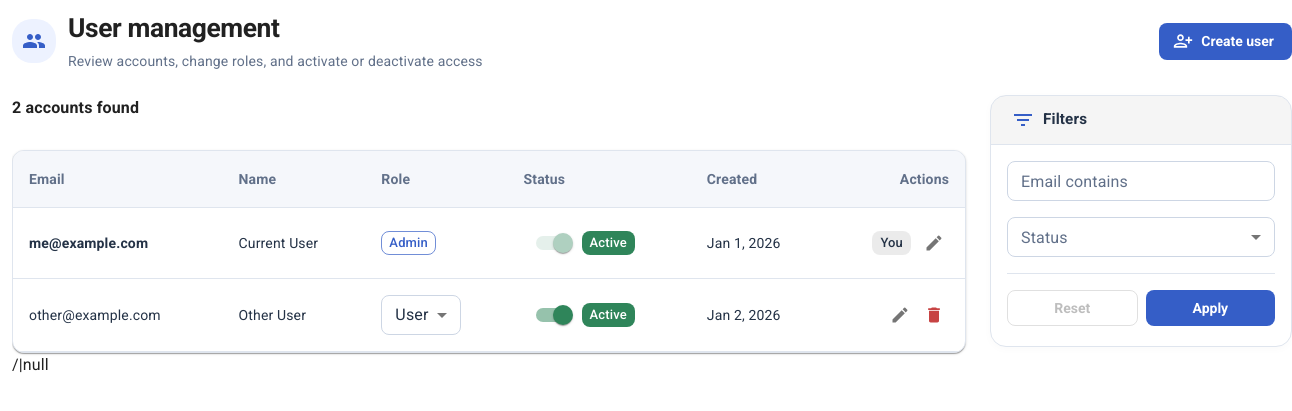
Scenario: users dashboard › filters accounts by email and active status
Check: the text "me@example.com" is shown, box [29,235,148,251]
In the field labelled "Email contains": (1141, 181) [1007,161,1275,201], type "other"
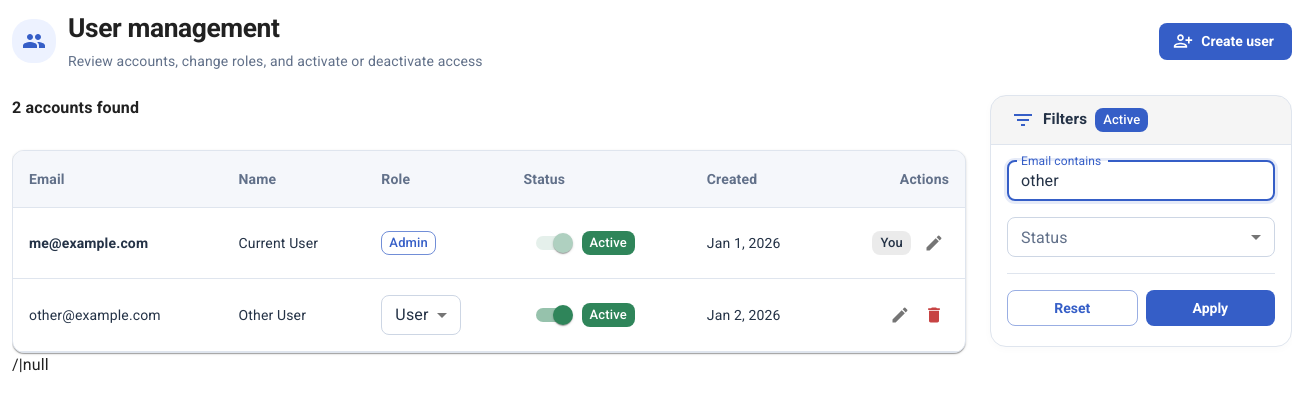
Click the 1st dropdown: (1141, 237) [1007,217,1275,257]
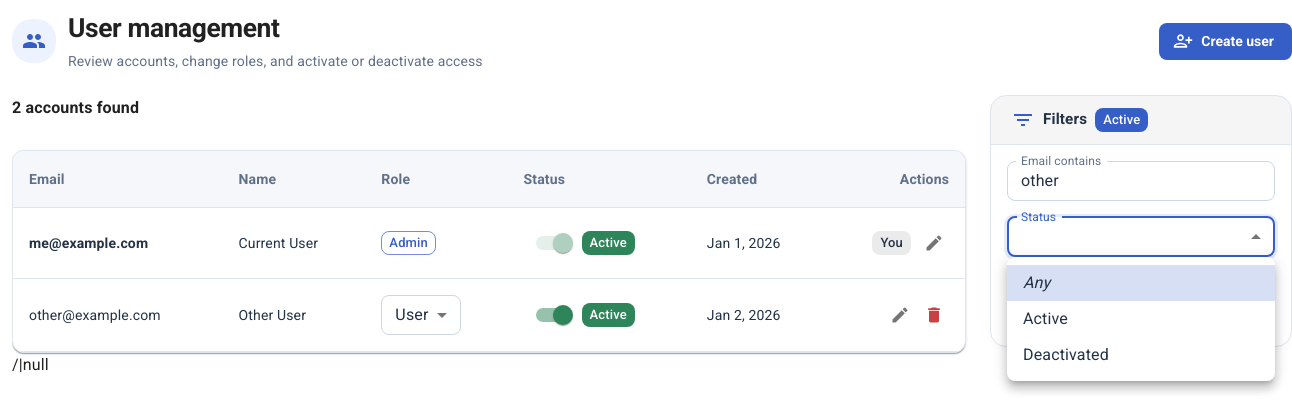
Click the option "Active": (1046, 318) [1023,309,1068,328]
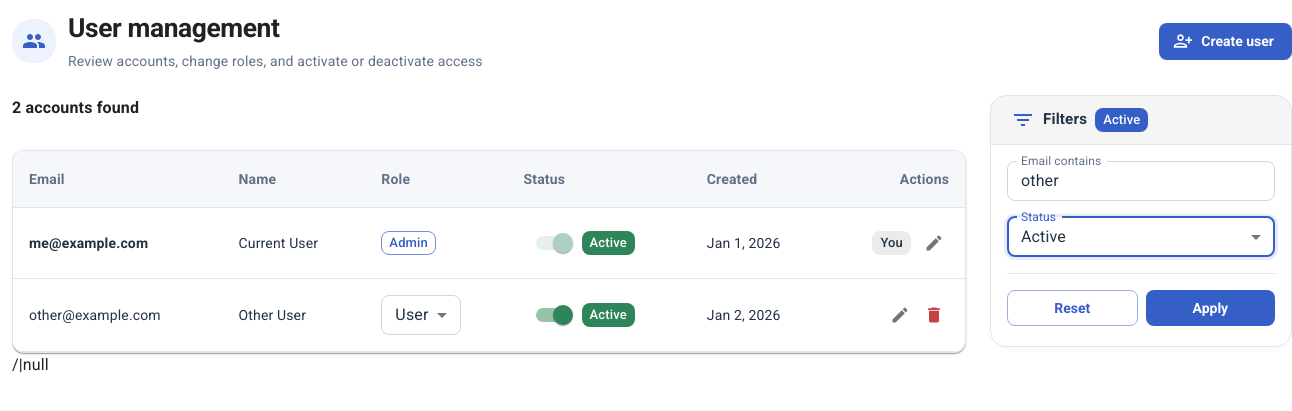
Click the button "Apply": (1210, 308) [1146,290,1275,326]
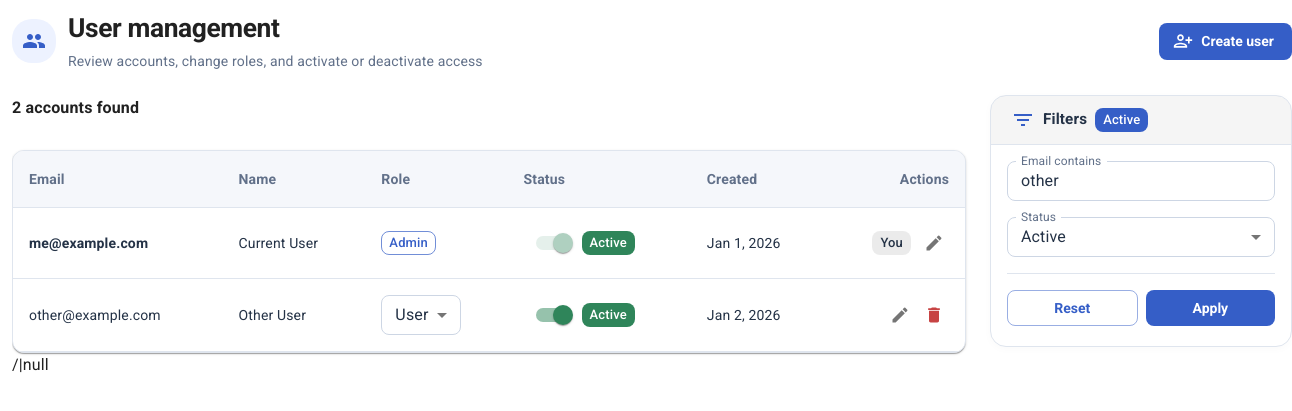
Click the button "Reset": (1072, 308) [1007,290,1138,326]
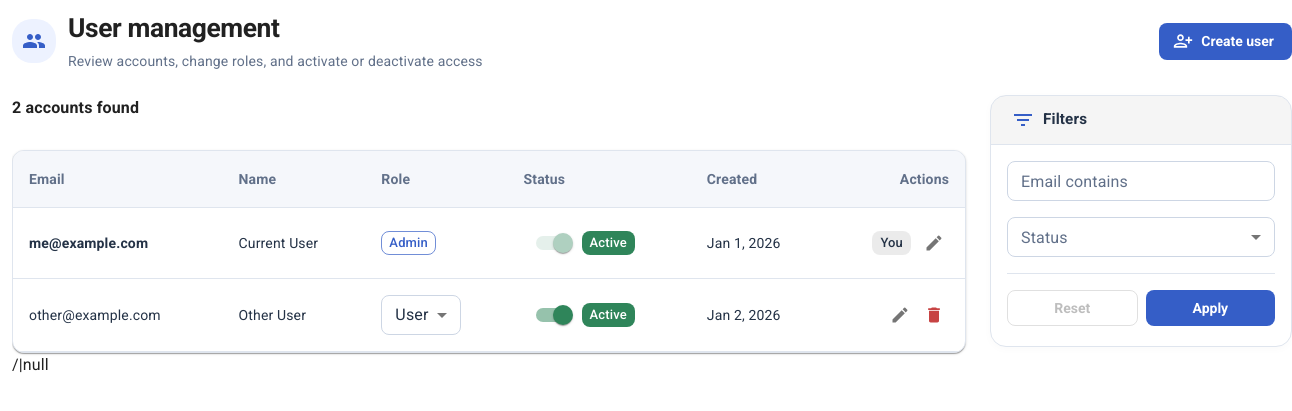
Check: the field labelled "Email contains" is empty, box [1007,161,1275,201]
